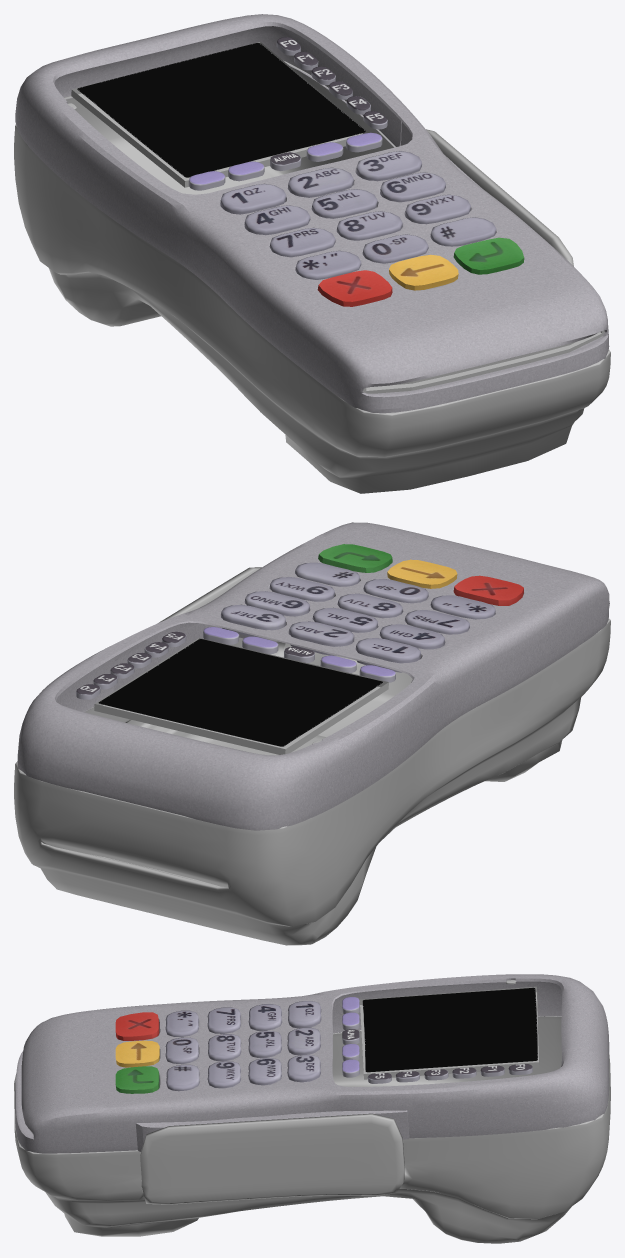
Rendered from Card_Machine.fbx.
3 views of the same model, one above another, from view 1: azimuth 30°, elevation 25°; view 2: azimuth 150°, elevation 25°; view 3: azimuth 270°, elevation 25° (orthographic). The views are drawn at different scales.
Visible parts, largest first — view 1: polySurface24, polySurface27, polySurface89, DynaWax129, pCube1, polySurface90; view 2: polySurface24, polySurface27, polySurface89, DynaWax129, polySurface90; view 3: polySurface27, polySurface24, polySurface89, DynaWax129, polySurface90.
Part boxes in pixels (x1,y1,x2,y2): polySurface24: (15, 14, 609, 413); polySurface27: (14, 60, 610, 493); polySurface89: (188, 37, 524, 306); DynaWax129: (77, 43, 365, 177); pCube1: (363, 330, 604, 393); polySurface90: (71, 42, 369, 187); polySurface24: (17, 522, 609, 830); polySurface27: (14, 567, 610, 945); polySurface89: (76, 544, 523, 699); DynaWax129: (98, 639, 383, 746); polySurface90: (94, 638, 388, 754); polySurface27: (14, 1016, 610, 1243); polySurface24: (15, 974, 609, 1153); polySurface89: (115, 997, 532, 1093); DynaWax129: (362, 987, 537, 1072); polySurface90: (359, 986, 539, 1079).
Bounding box in the file's own units: 2 × 1.33 × 4.17.
